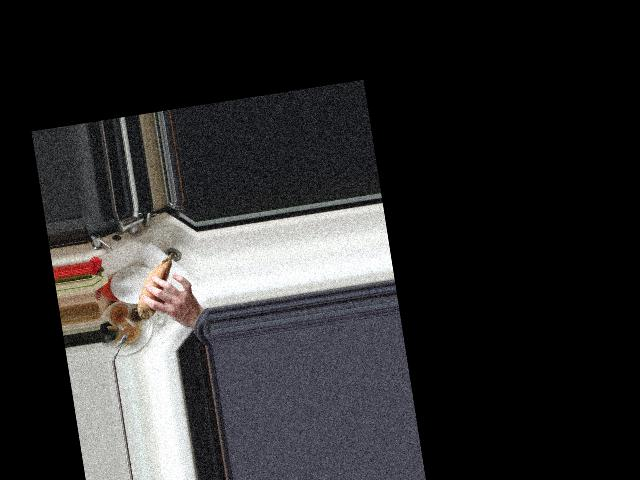sweet_potato: (129, 252, 182, 319)
